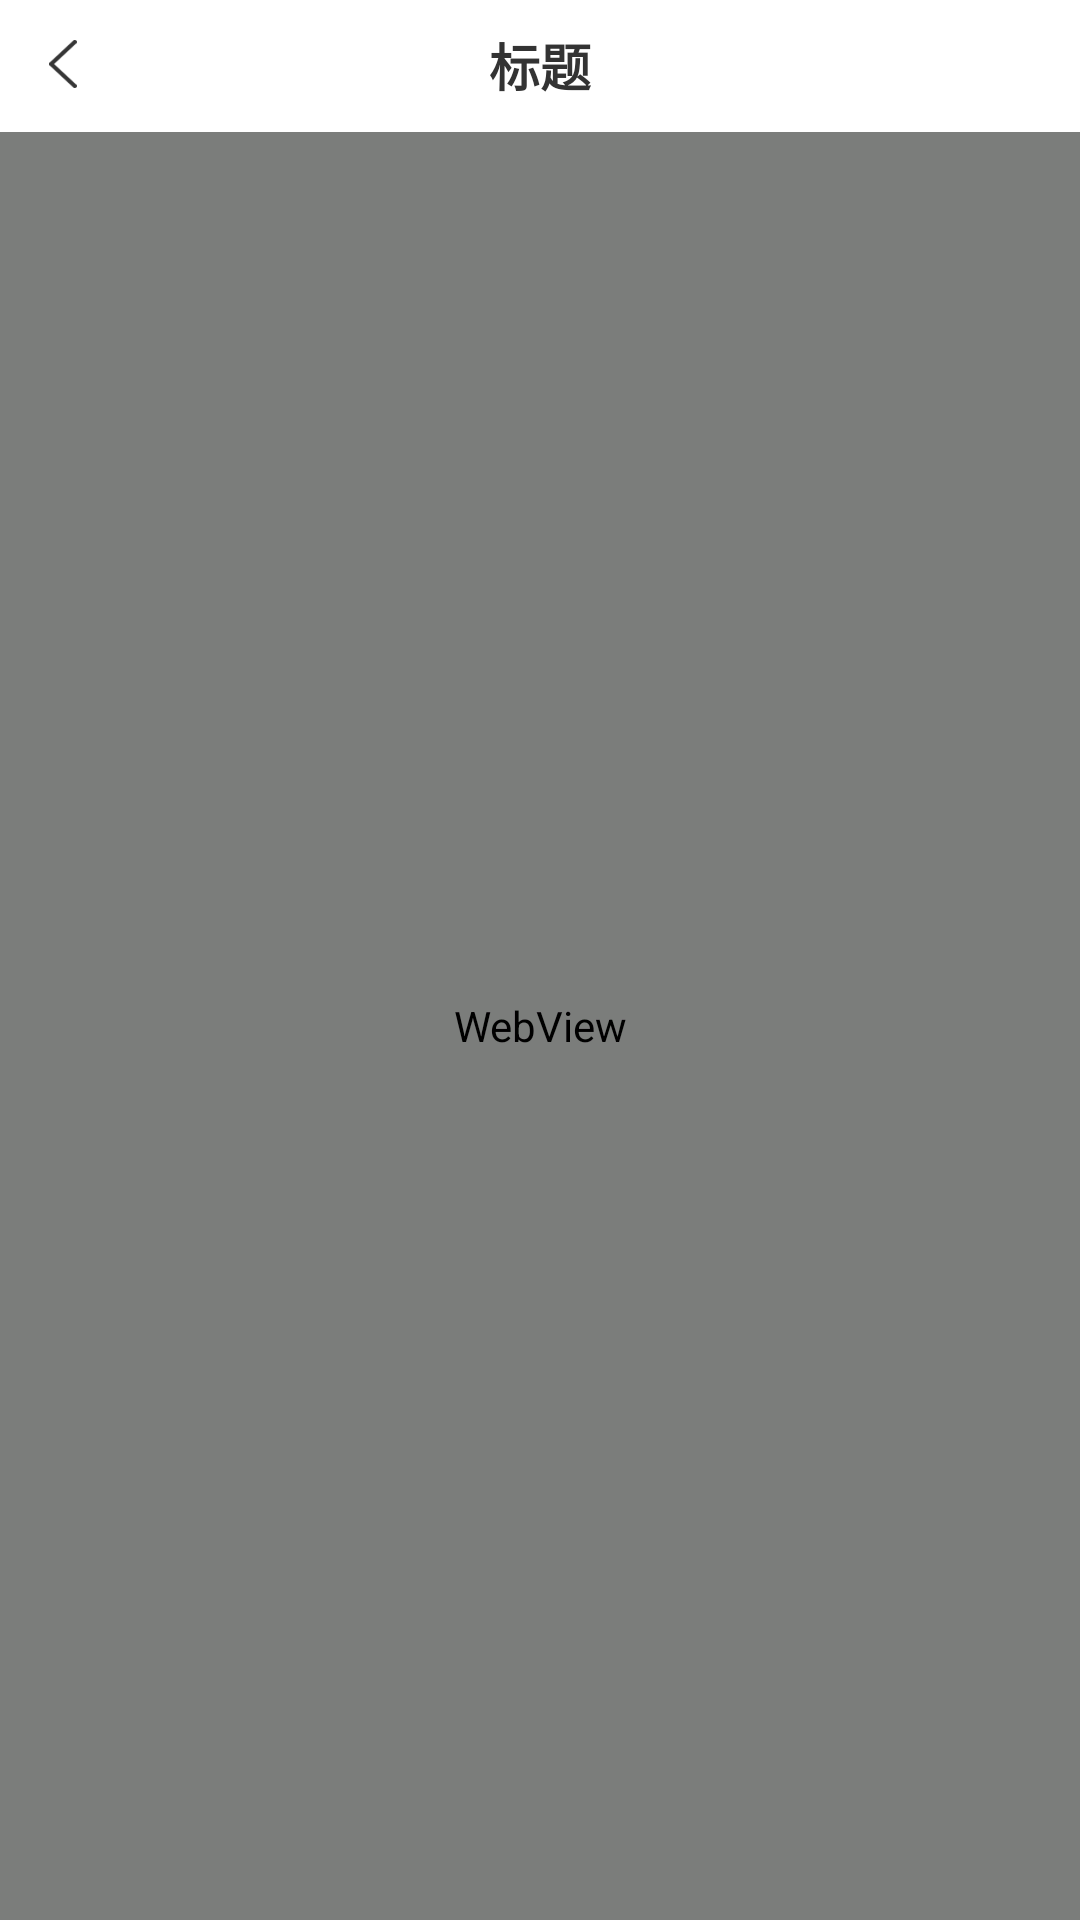

Named icons in this screenshot (1080px×1920px) and their bounding boxes, (x1, y1, x2, y2):
arrow left: (49, 40, 77, 88)
